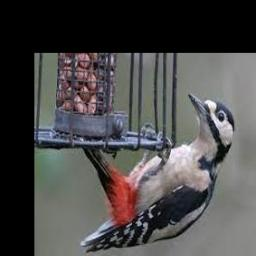Woodpecker: (81, 92, 235, 252)
